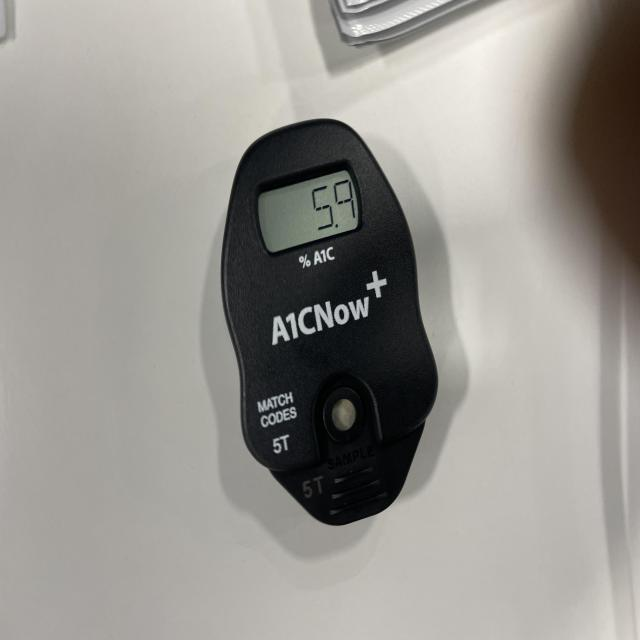hba1c: (219, 119, 439, 529)
